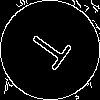T: (25, 25, 80, 77)
